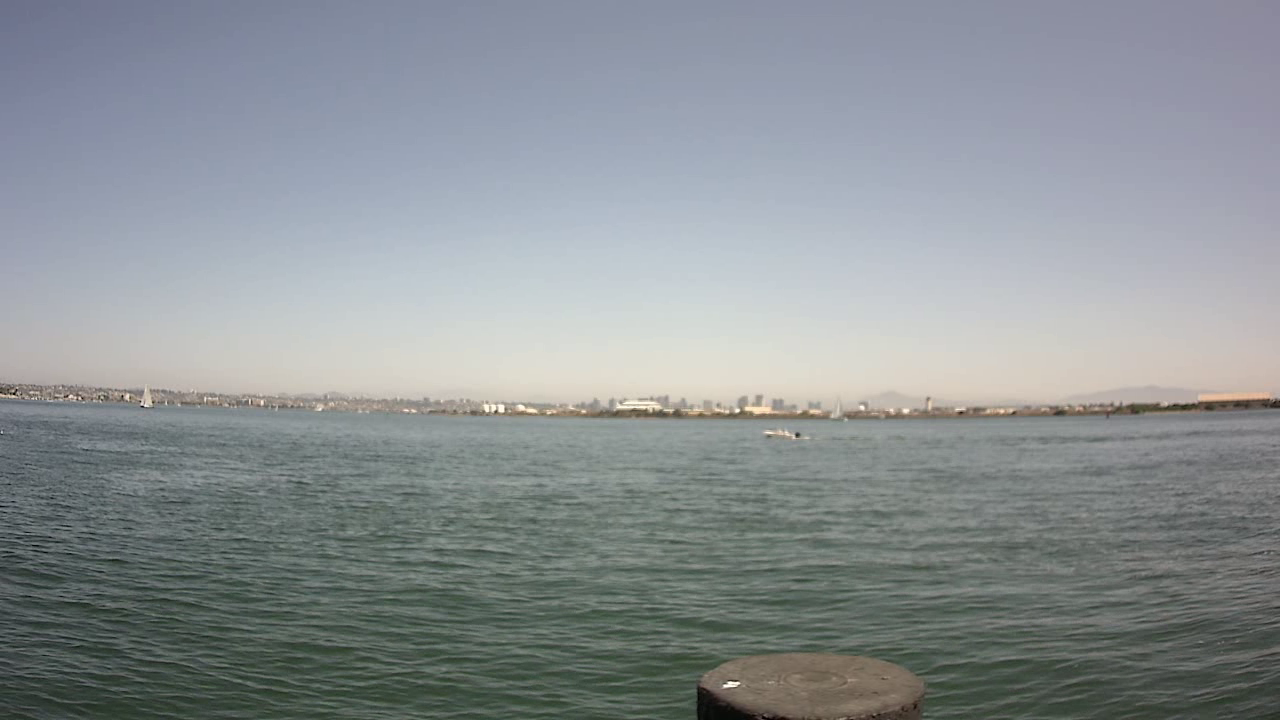target: (753, 419, 813, 451)
